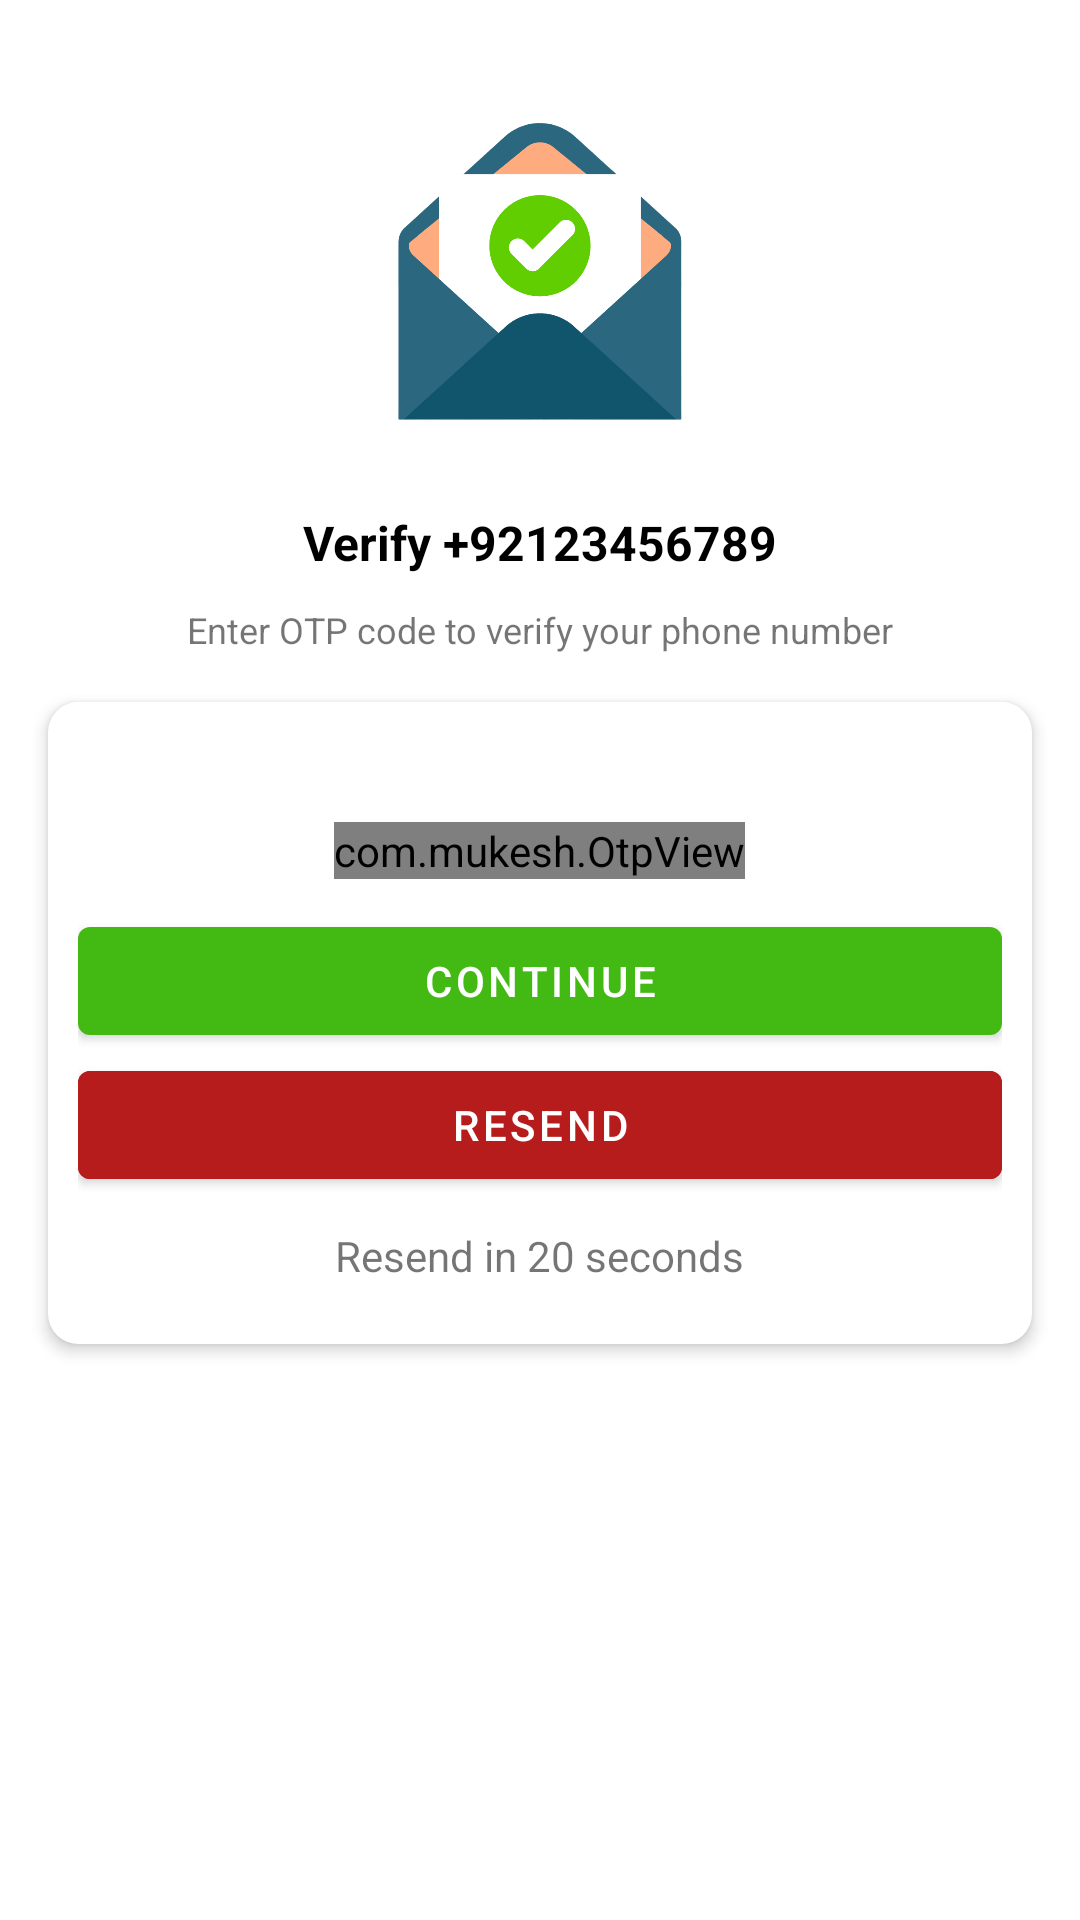

Locate icon controls on the screen. Image size 1080 × 1920, boxes as region(x1, y1, x2, y2).
otp receive: region(398, 123, 682, 420)
